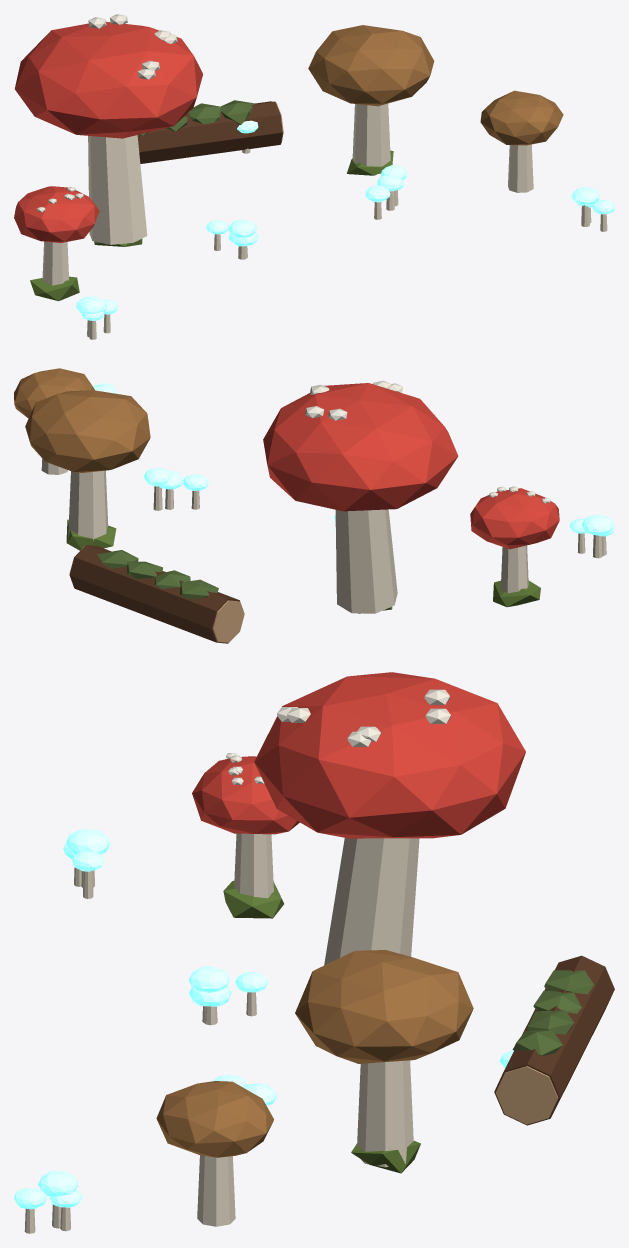
File: theme_mushroom.glb
The picture shows the model from 3 angles, top to bottom: view 1: azimuth 30°, elevation 25°; view 2: azimuth 150°, elevation 25°; view 3: azimuth 270°, elevation 25°; orthographic projection. The views are drawn at different scales.
Parts seen in each view (by area): view 1: theme_mushroom; view 2: theme_mushroom; view 3: theme_mushroom.
Boxes of the visible parts, x1,y1,x2,y2 form: theme_mushroom: [14, 14, 614, 339]; theme_mushroom: [14, 368, 614, 643]; theme_mushroom: [14, 672, 614, 1233].
Size of the model in its own units: 2.32 by 0.8816 by 1.6.
